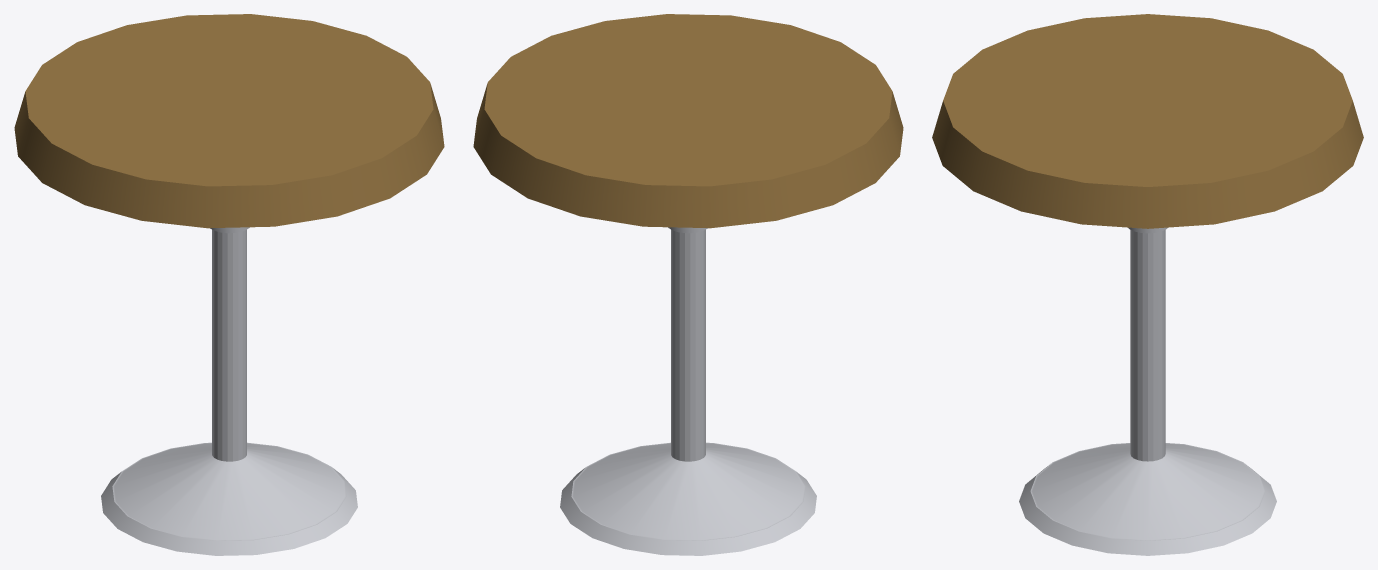
Rendered from chair.fbx.
3 renders of one model, left to right at view 1: azimuth 30°, elevation 25°; view 2: azimuth 150°, elevation 25°; view 3: azimuth 270°, elevation 25°, orthographic.
Visible parts, largest first — view 1: pCylinder1; view 2: pCylinder1; view 3: pCylinder1.
Boxes of the visible parts, box(x1,y1,x2,y2) form: pCylinder1: box(14, 14, 444, 555); pCylinder1: box(473, 14, 903, 555); pCylinder1: box(932, 14, 1363, 555).
Bounding box in the file's own units: 3.35 × 3.43 × 3.35.
